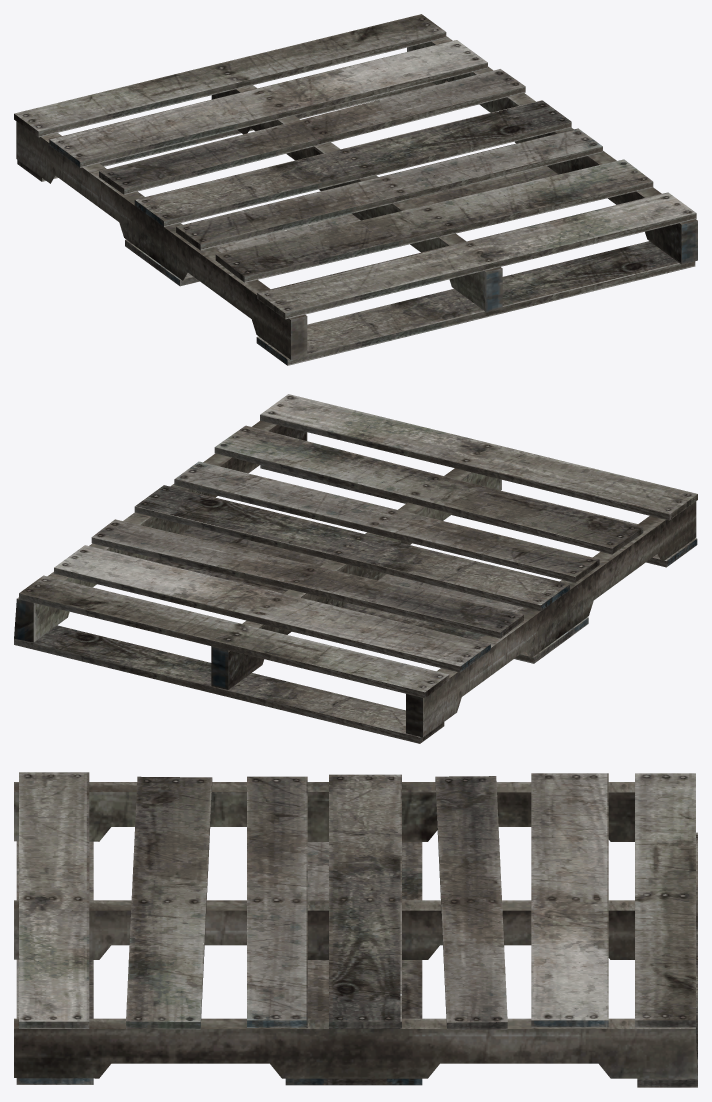
The model's file is PalletWood01.FBX.
3 renders of one model, top to bottom at view 1: azimuth 30°, elevation 25°; view 2: azimuth 150°, elevation 25°; view 3: azimuth 270°, elevation 25°, orthographic. The views are drawn at different scales.
Visible parts, largest first — view 1: PalletWood01; view 2: PalletWood01; view 3: PalletWood01.
Part boxes in pixels (x1=…): PalletWood01: x1=14, y1=14, x2=697, y2=365; PalletWood01: x1=14, y1=394, x2=697, y2=743; PalletWood01: x1=14, y1=772, x2=697, y2=1087.
Bounding box in the file's own units: 67.68 × 8.16 × 78.15.
